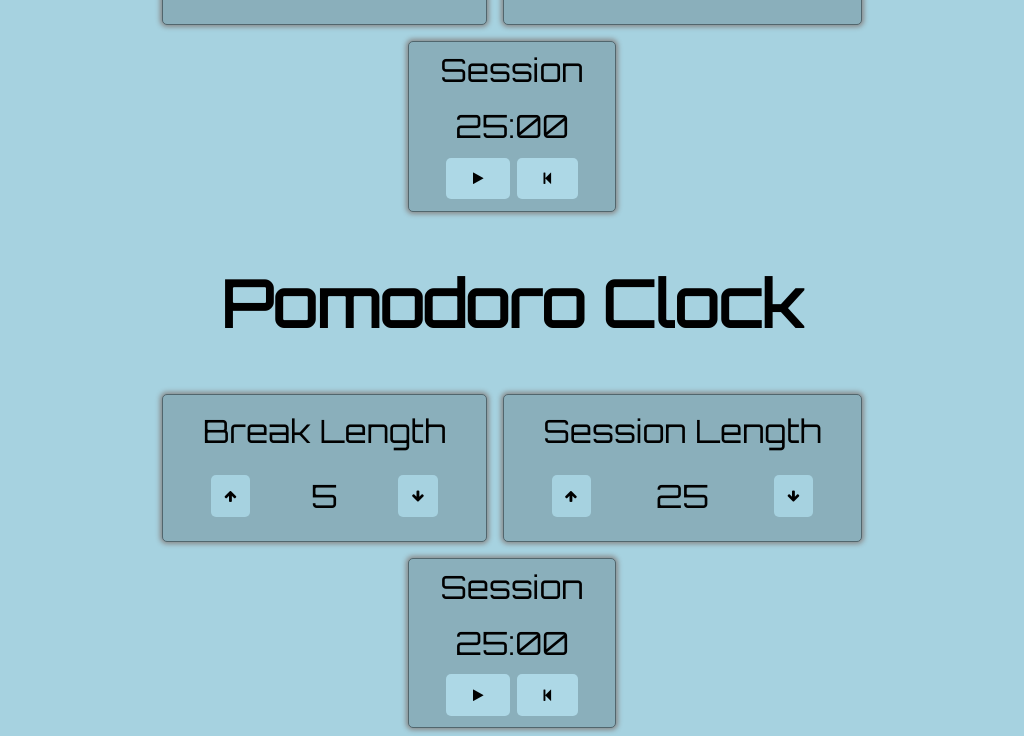
Test: App tests › Should correctly start the timer at the current session-length value when start_stop is clicked
The image size is (1024, 736).
(page scrolled)
Click the button with id "session-increment".
click(571, 496)  # box 552,476 -> 590,517
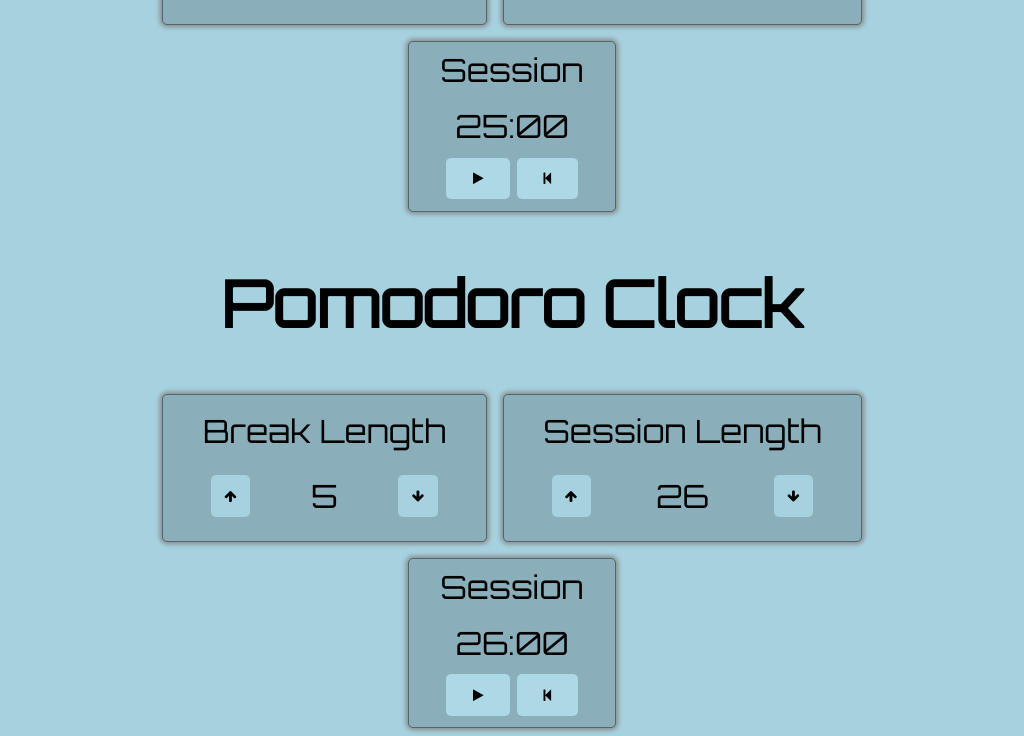
Click the button with id "session-increment".
click(571, 496)  # box 552,476 -> 590,517
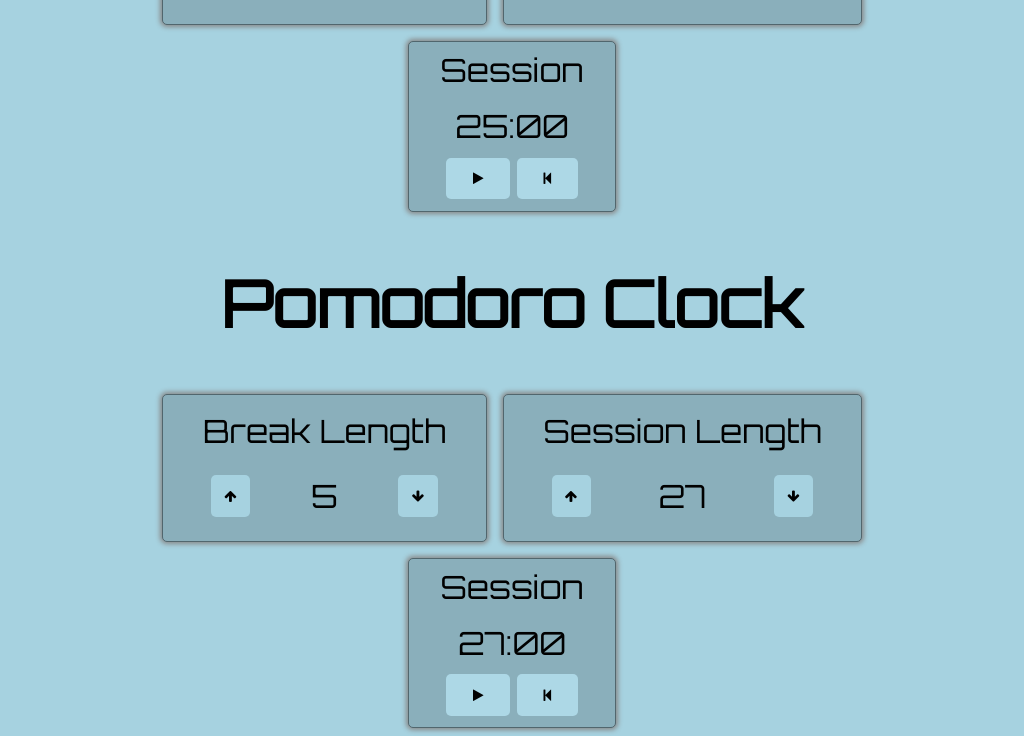
Expected: the text with id "time-left" reads "27:00", 458,623 -> 566,663
